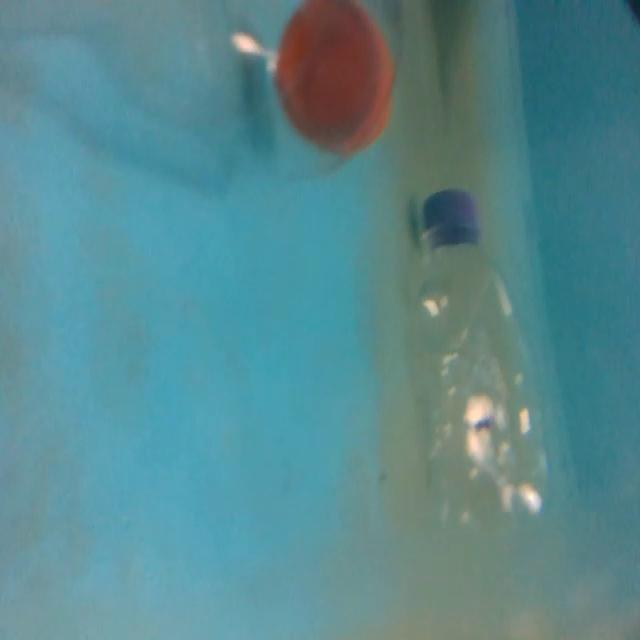plastic bottle: (396, 174, 560, 562)
